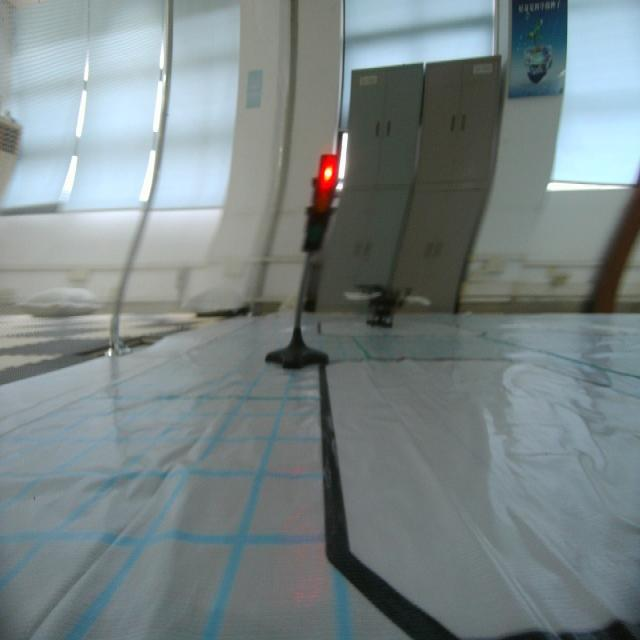red: (305, 149, 343, 261)
